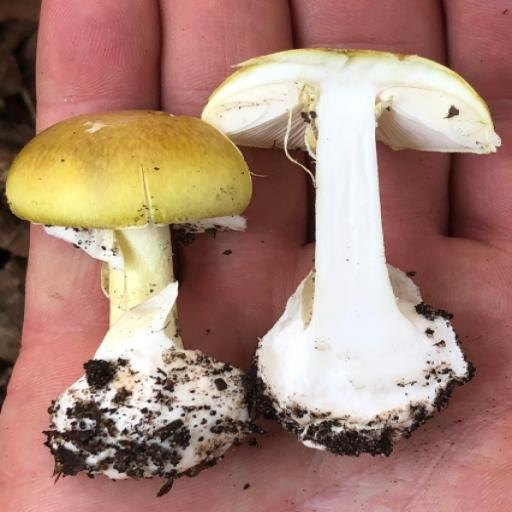mushroom: (7, 103, 272, 482), (0, 0, 1, 1)
